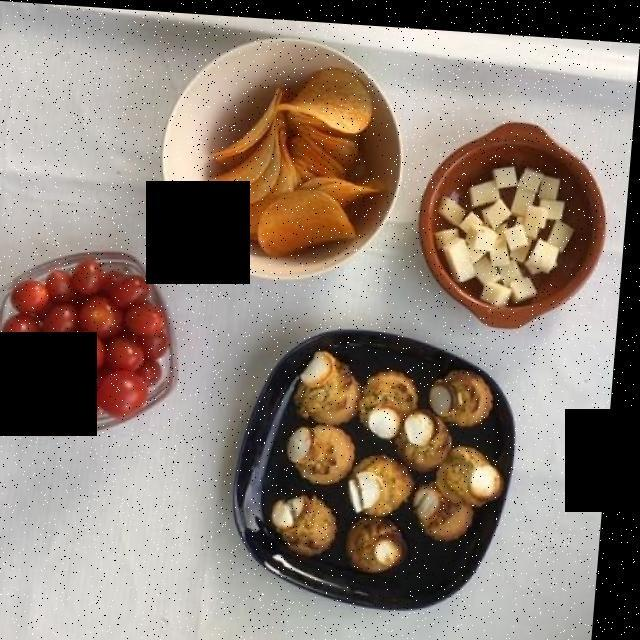bread: (301, 365, 499, 571)
chips: (216, 61, 389, 250)
gruyere: (438, 151, 598, 305)
tomato: (9, 258, 173, 419)
